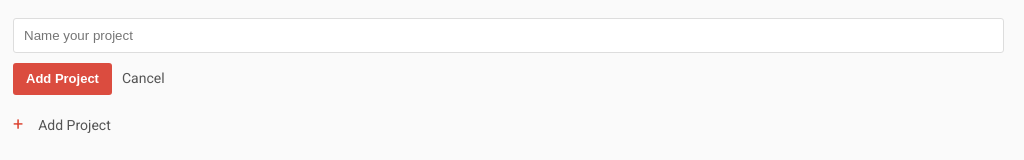
<AddProject/> › Success › hides the add project if clicked cancel
Expected: the element with test id "add-project-inner" is shown, [13,18,1004,95]
Click the button "Cancel" at coordinates (143, 78), box [122,70,165,86]
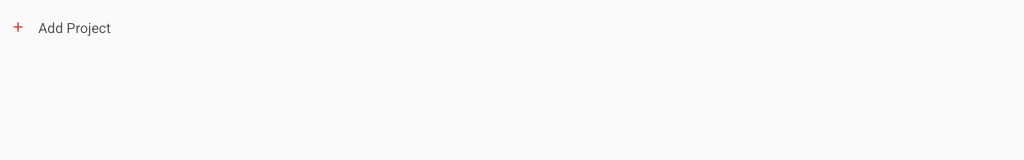
Expected: the element with test id "add-project" is shown, [13,16,111,37]
Result: the element with test id "add-project-inner" is gone
